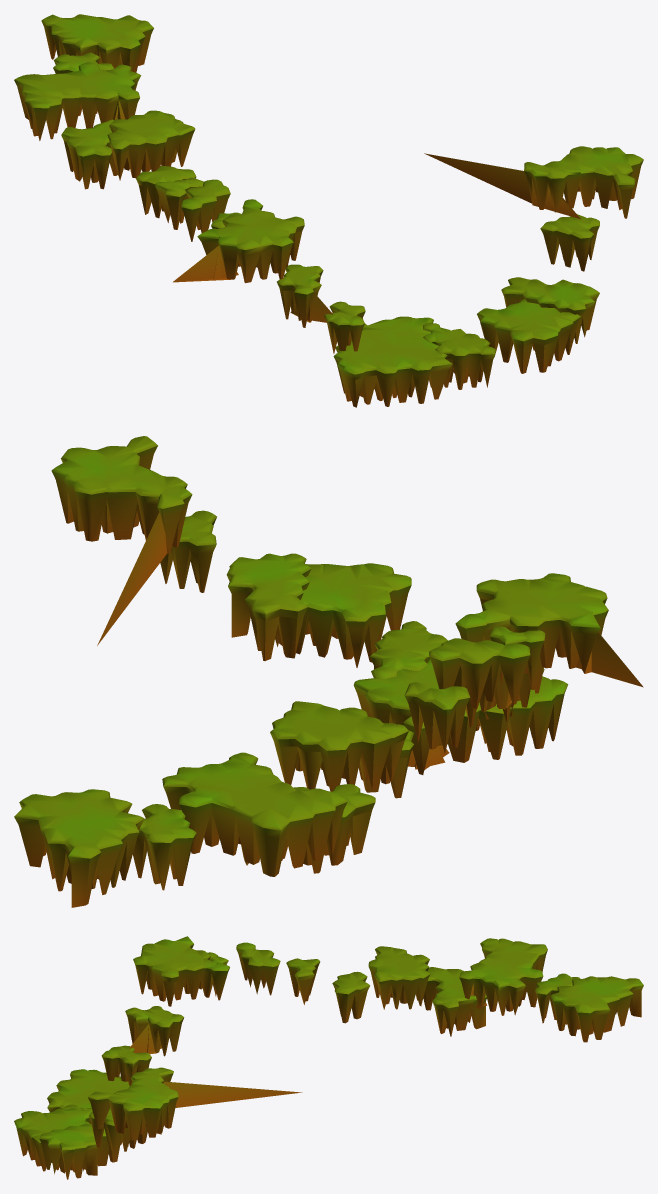
File: island.fbx
3 renders of one model, top to bottom at view 1: azimuth 30°, elevation 25°; view 2: azimuth 150°, elevation 25°; view 3: azimuth 270°, elevation 25°, orthographic. The views are drawn at different scales.
Parts seen in each view (by area): view 1: islandGen2; view 2: islandGen2; view 3: islandGen2.
Boxes of the visible parts, x1=… form: islandGen2: x1=14, y1=14, x2=643, y2=407; islandGen2: x1=14, y1=436, x2=643, y2=907; islandGen2: x1=14, y1=936, x2=643, y2=1179.
Size of the model in its own units: 6.36 by 2.09 by 9.04.
